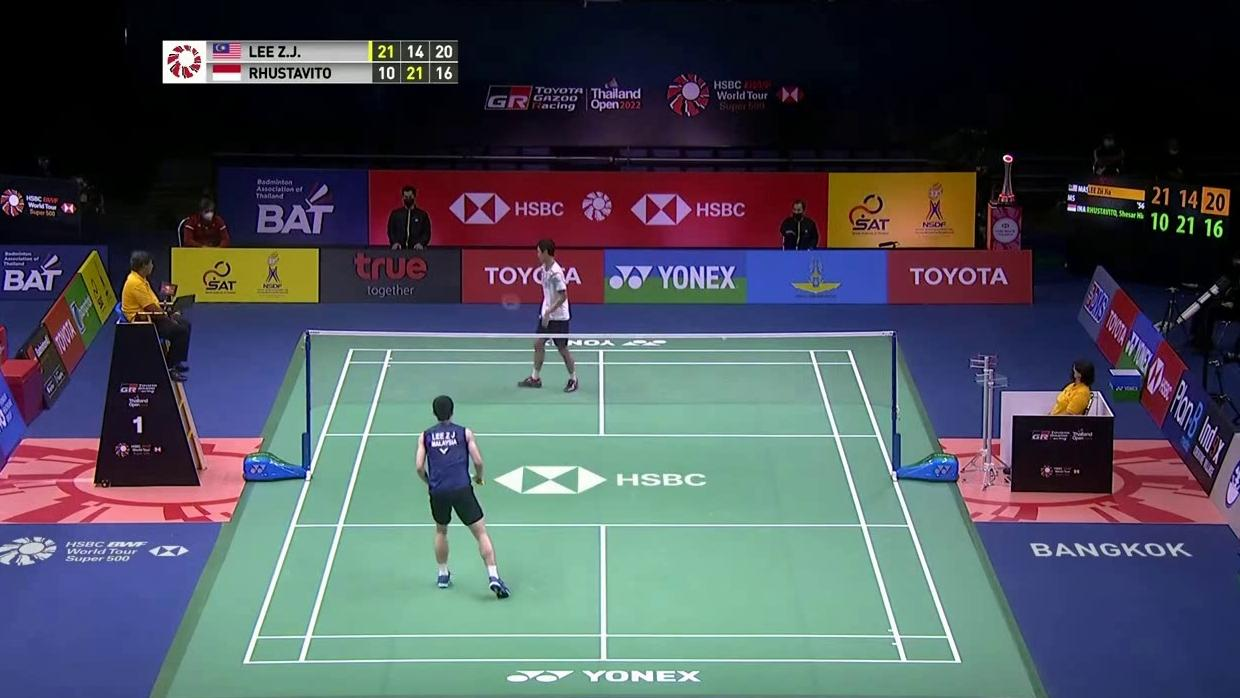racket: (499, 290, 544, 322), (468, 469, 487, 487)
shuttle: (720, 332, 730, 342)
